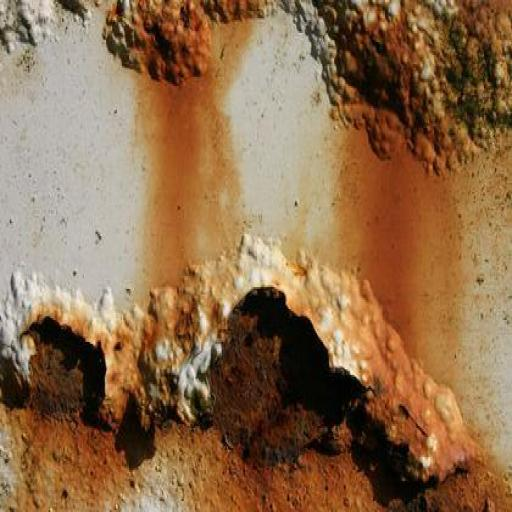corrosion: (0, 234, 511, 510), (311, 126, 476, 380), (291, 0, 511, 174), (141, 73, 220, 280), (105, 0, 269, 84)
